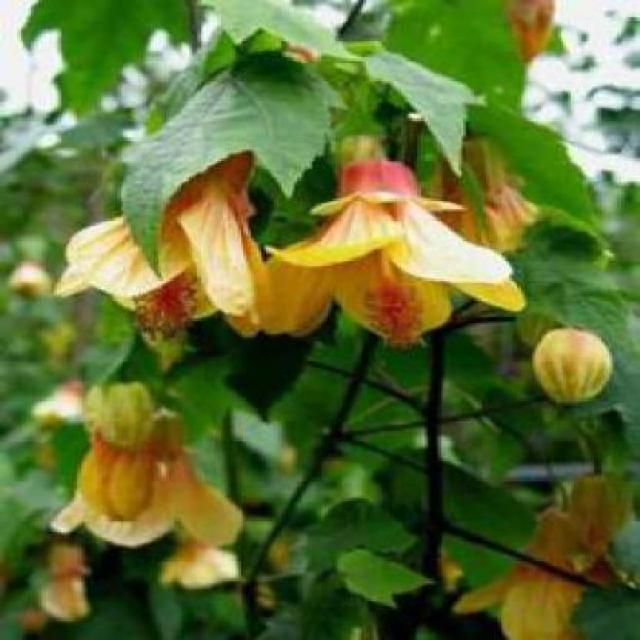Flower: (255, 161, 528, 347), (56, 131, 269, 338), (51, 408, 243, 548), (451, 507, 602, 638), (423, 136, 546, 267), (358, 281, 425, 348), (131, 275, 200, 336)
